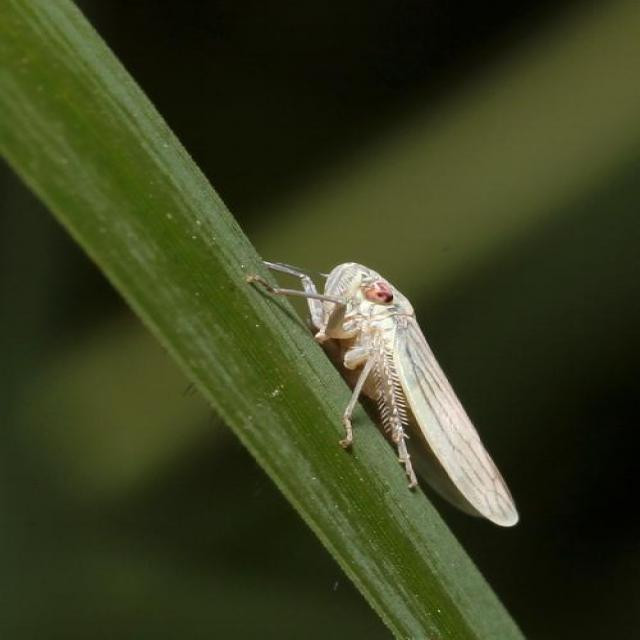Yechan: (290, 242, 541, 542)
